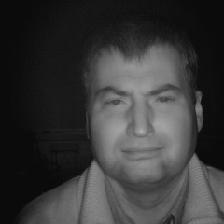normal: (82, 28, 214, 190)
